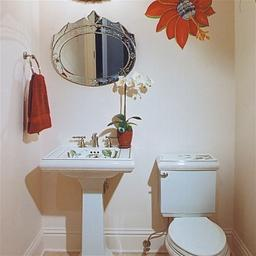Lavamanos: (46, 145, 127, 254)
Sanitario: (157, 160, 228, 254)
